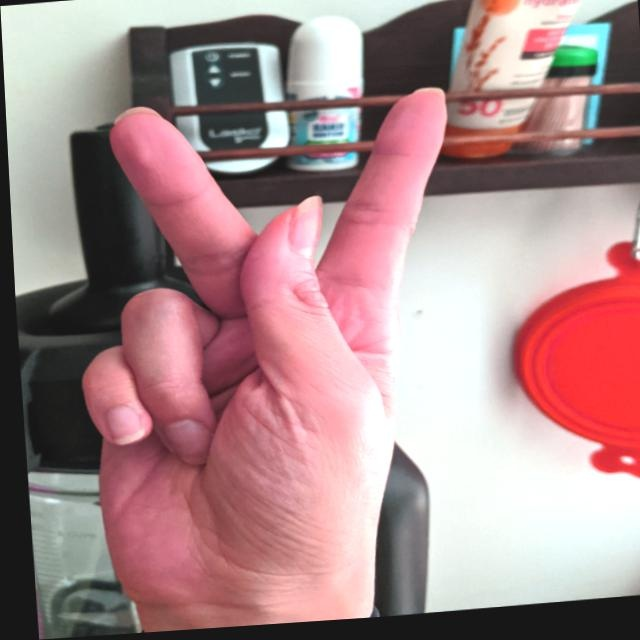K: (42, 80, 487, 637)
